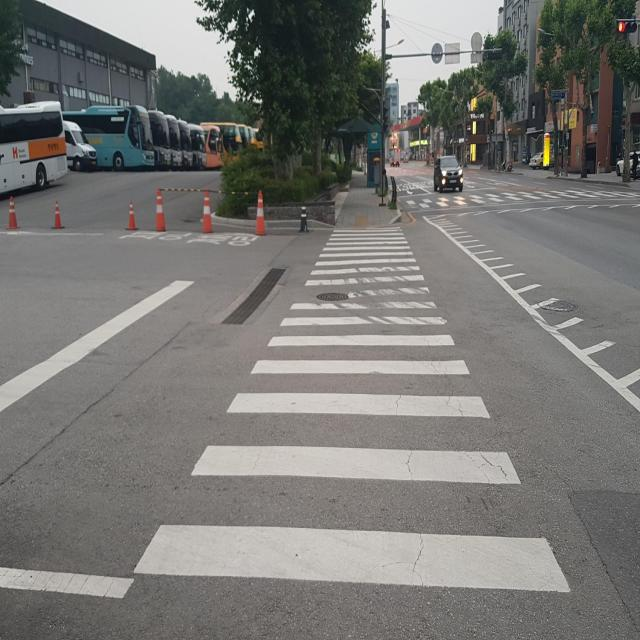횡단보도: (130, 222, 576, 598), (404, 187, 640, 210)
